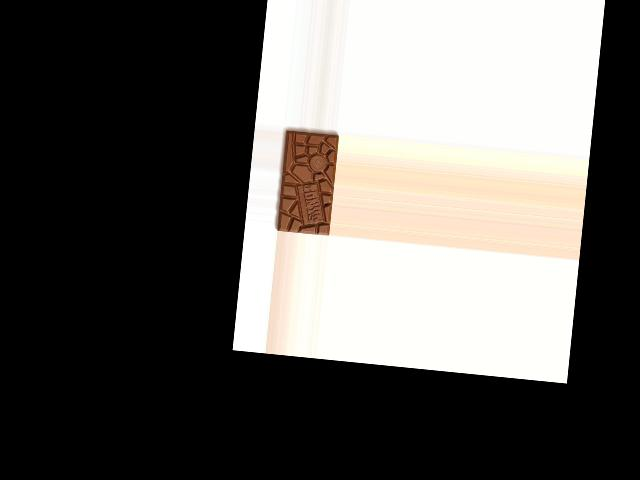chocolate: (273, 128, 338, 236)
